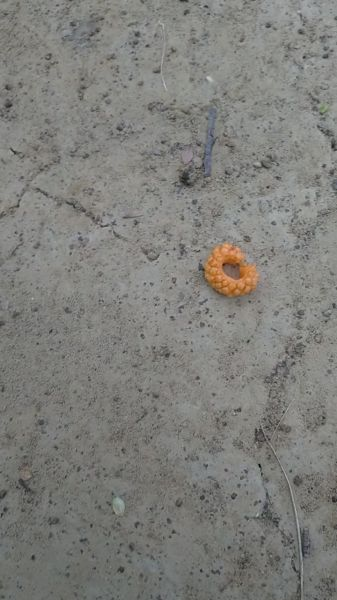eggs: (202, 239, 263, 297)
